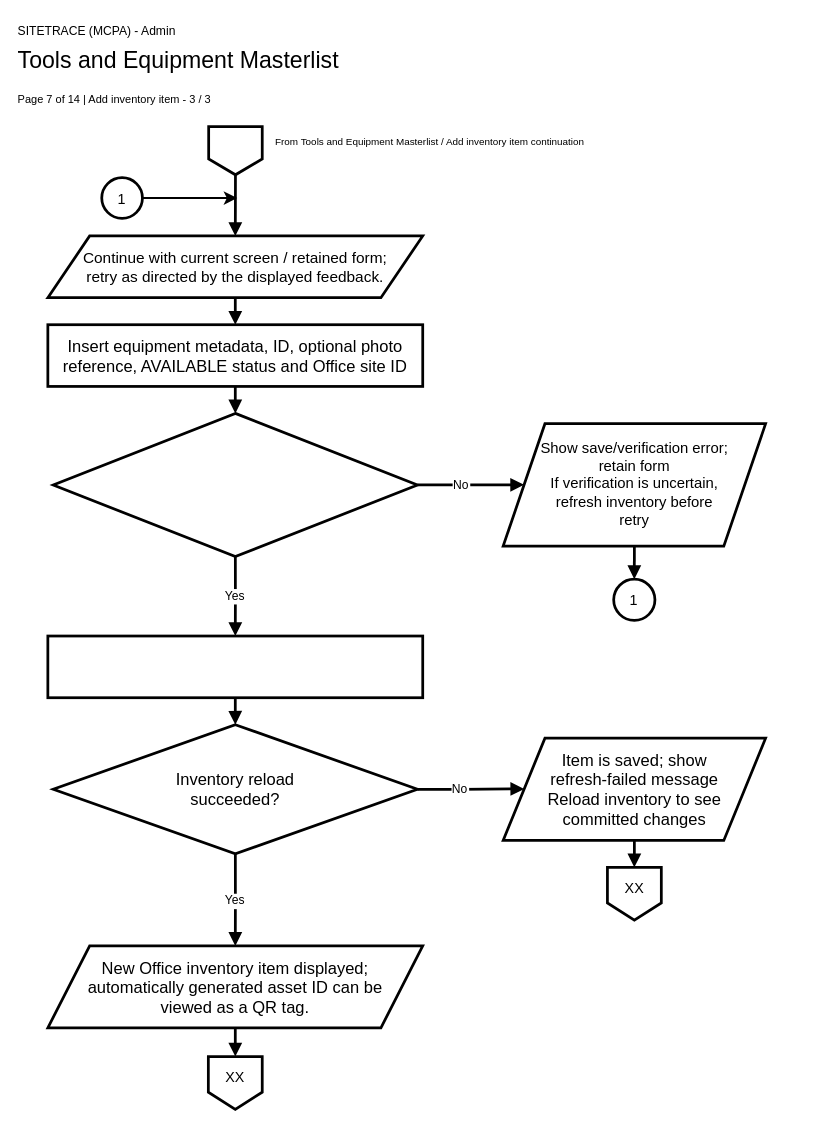
Some shapes in this 825 by 1130 pixel diagram are drawn without their labels. The box of each missing label's shape, as (x1, y1, x2, y2) in pixels:
AS: (207, 125, 263, 176)
Close/reset modal; show Item saved; reload inventory: (46, 634, 424, 699)
Write returned the expected asset ID and Office?: (51, 412, 418, 557)
